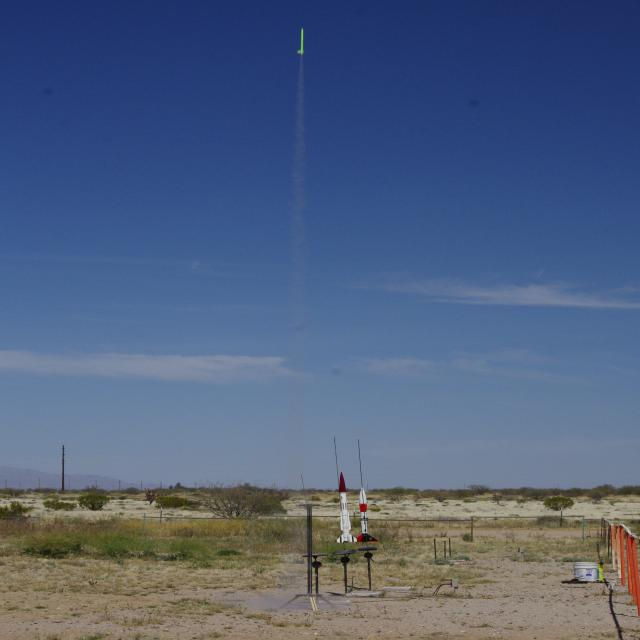Rocket: (336, 472, 357, 542), (358, 487, 378, 542), (297, 28, 305, 55)
